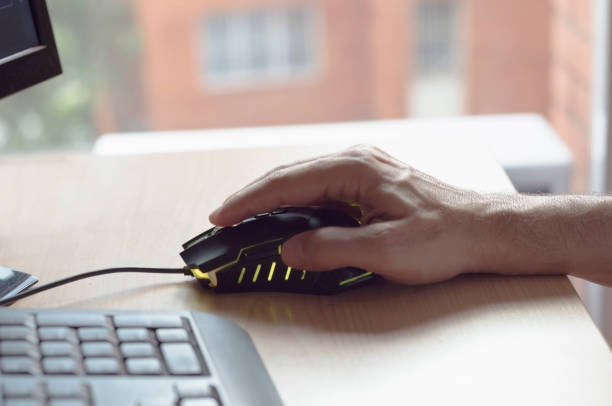keyboard: (1, 307, 283, 406)
mouse: (177, 206, 384, 295)
